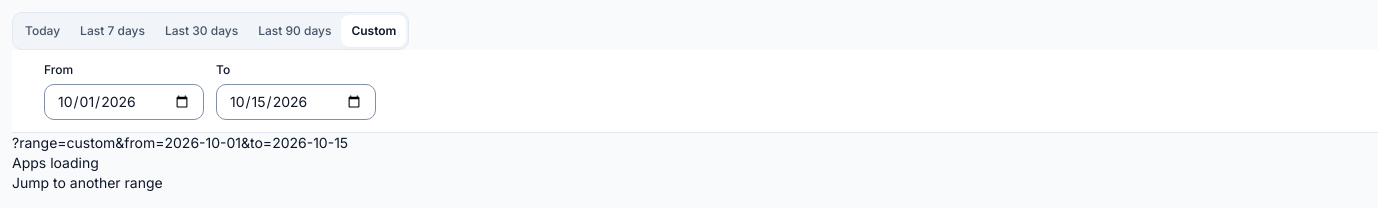
it: custom dates › shows the dates the address holds when it changes under the boxes
This screenshot has width=1378, height=208.
What coordinates should you click on to do the following:
click the link "Jump to another range"
I would click on:
 (87, 182)
Its box is [12,174,163,191].
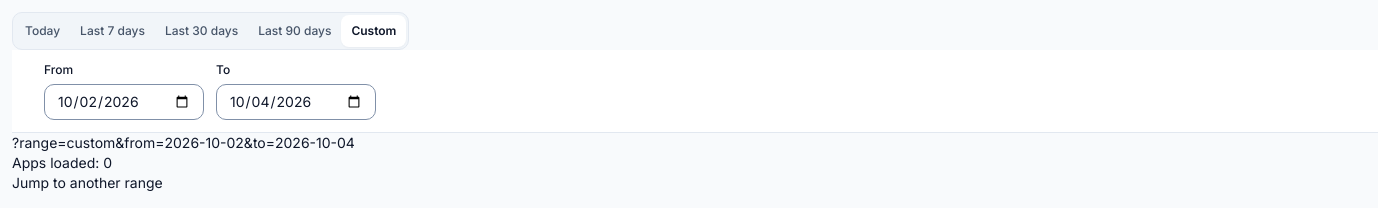
Expected: the date field labelled "From" holds "2026-10-02", [44,84,204,120]
Expected: the date field labelled "To" holds "2026-10-04", [216,84,376,120]
